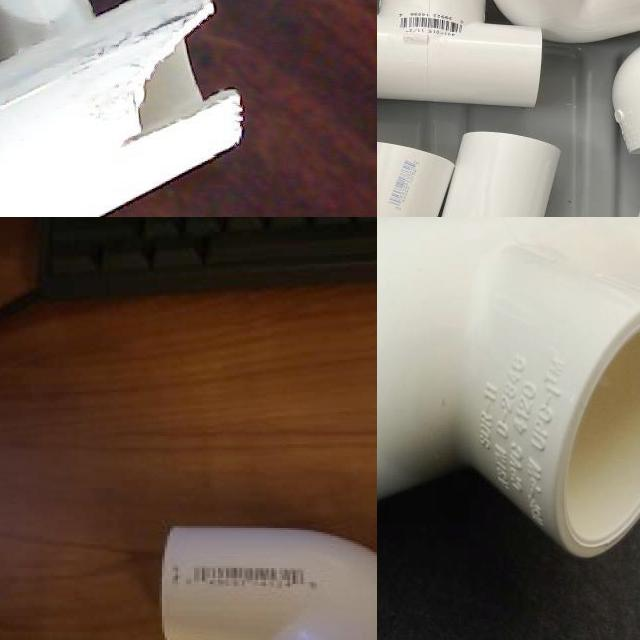Defective: (119, 0, 237, 156)
L Joint: (159, 527, 377, 640)
T Joint: (377, 217, 640, 561), (377, 0, 543, 110)
